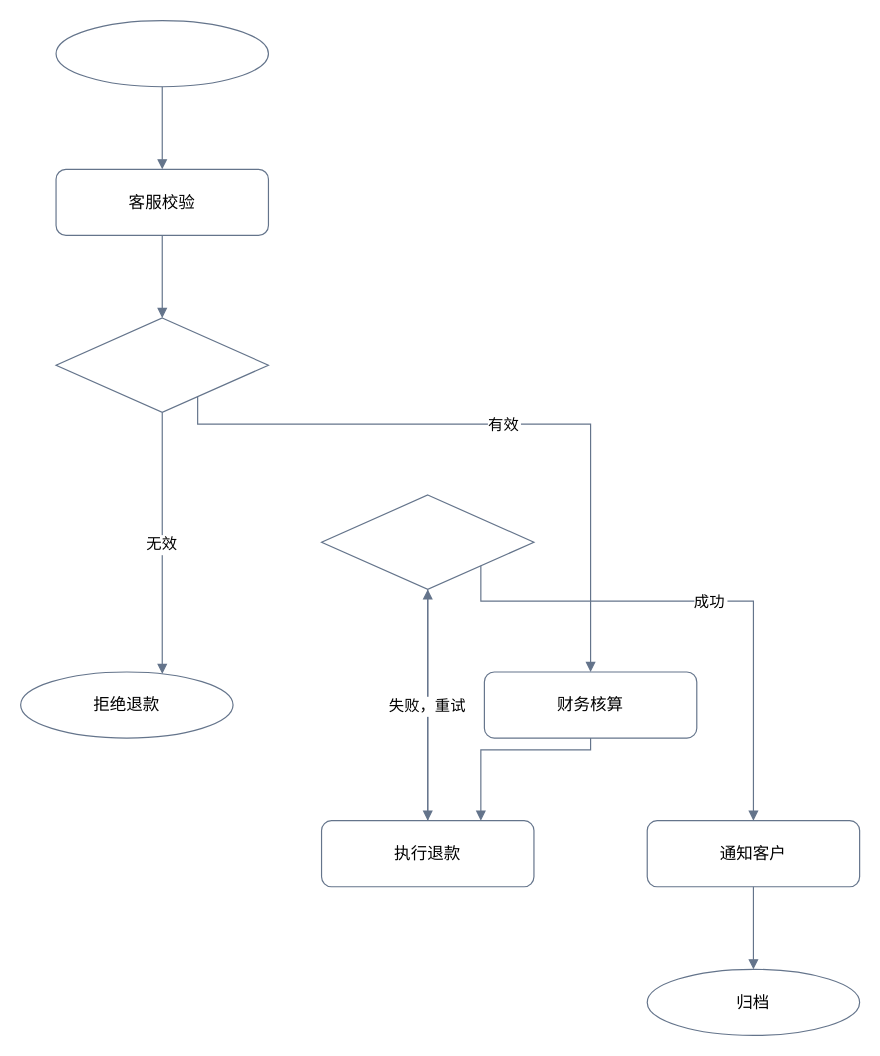
Some shapes in this 880 by 1056 pixel diagram are drawn without their labels. The box of each missing label's shape, as (x1, y1, x2, y2) in pixels:
申请退款: (55, 19, 268, 87)
订单有效？: (55, 317, 268, 412)
退款成功？: (320, 494, 534, 589)
